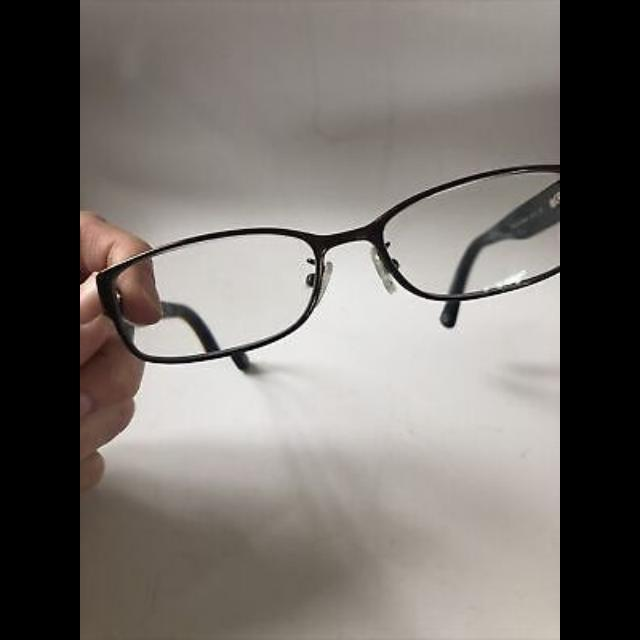mask: (92, 165, 560, 372)
